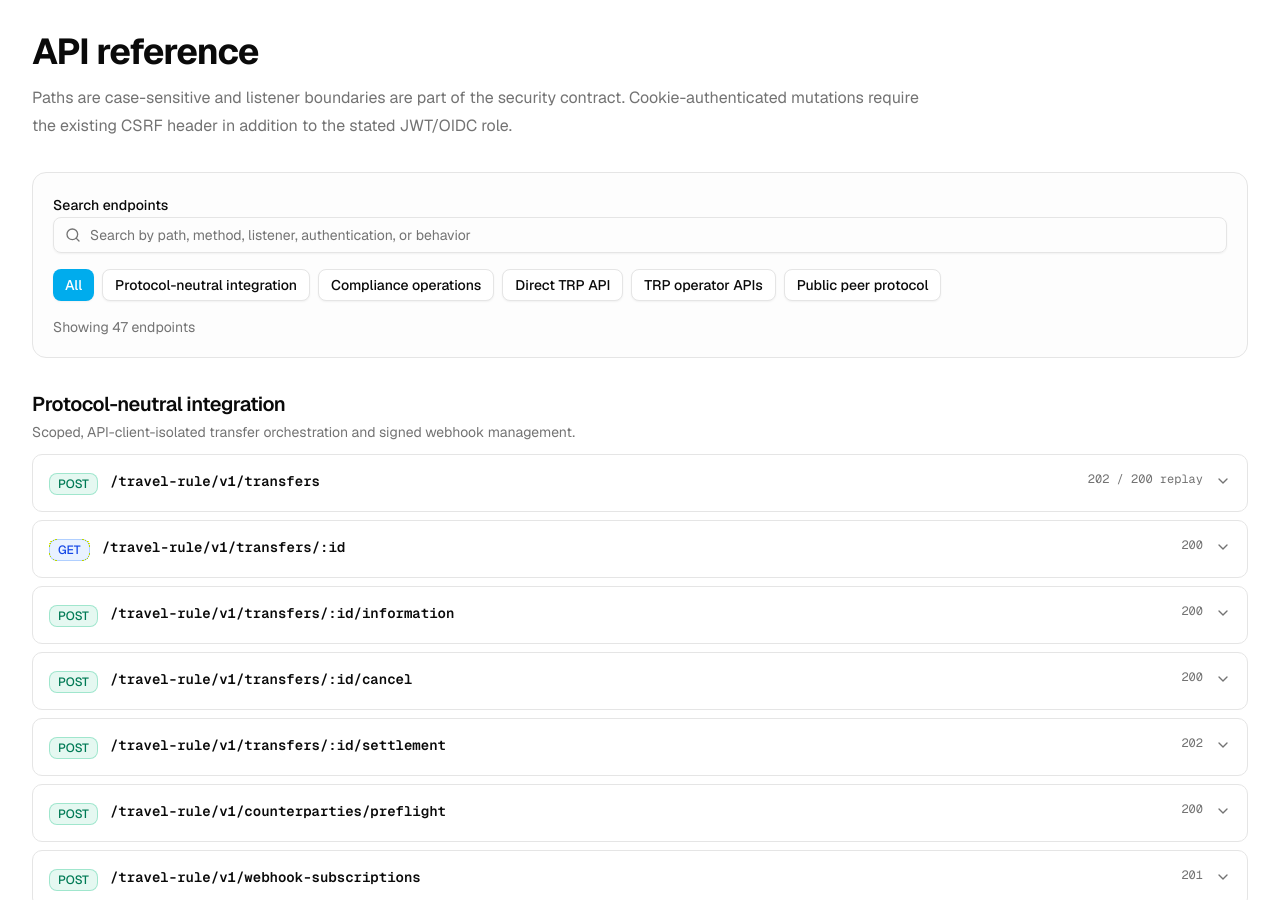
it: filters endpoints by search text across endpoint metadata
Type "mTLS" into the search field labelled "Search endpoints".
click(640, 235); type("mTLS")  # box [53,217,1227,253]
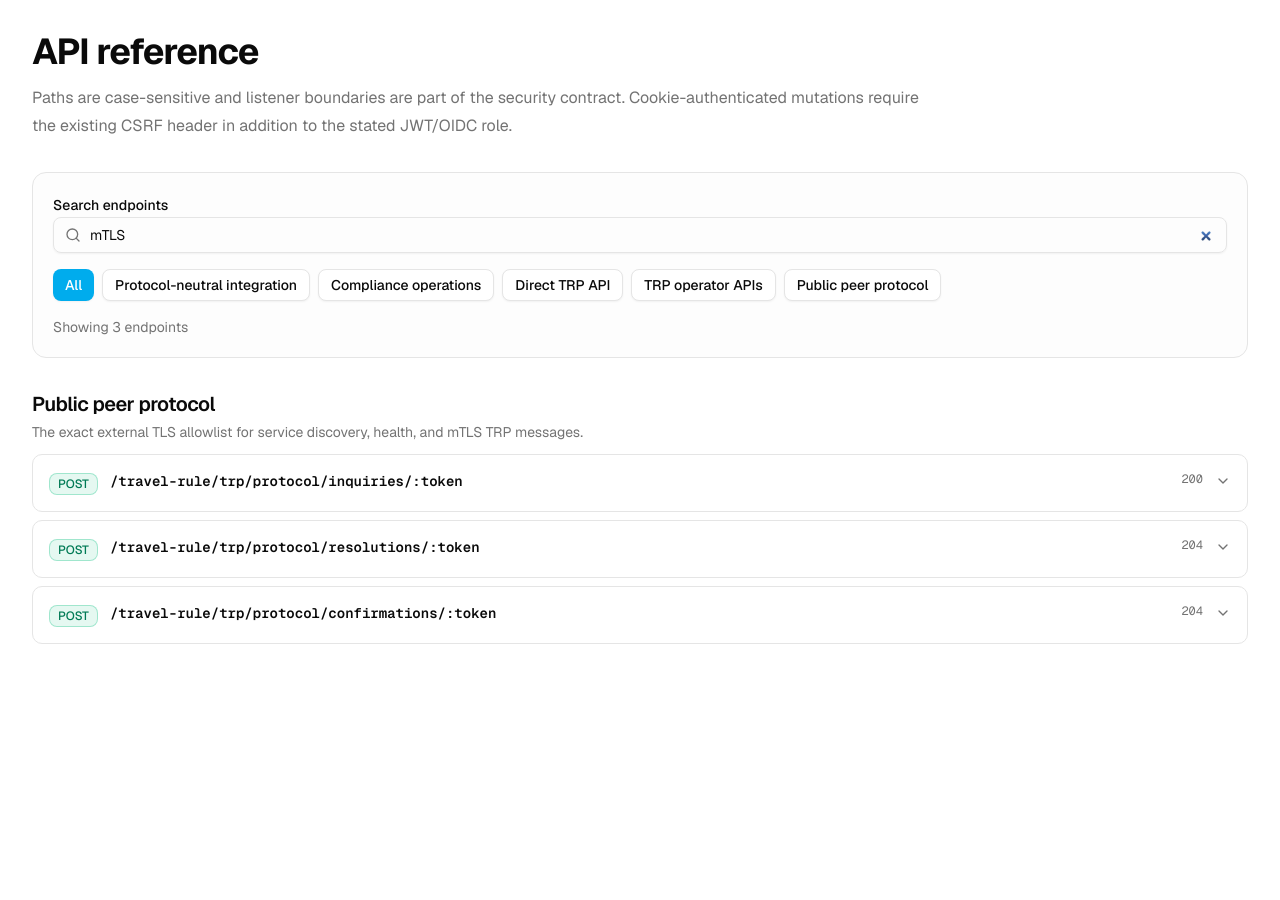
Expected: the text "/travel-rule/trp/protocol/inquiries/:token" is shown, [110,472,463,490]
Result: the message shows "3 endpoints" at [53,318,188,336]
Result: the heading "/travel-rule/v1/transfers" is gone
